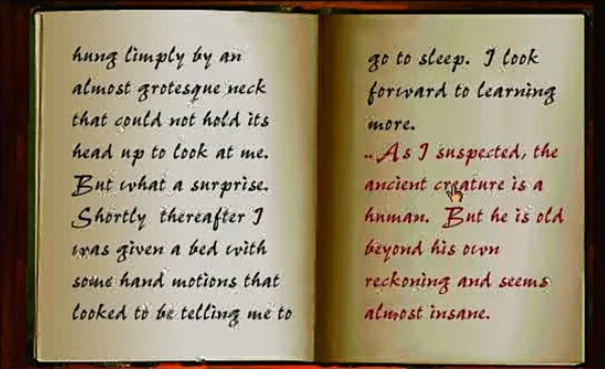Pointer: (444, 181, 468, 204)
